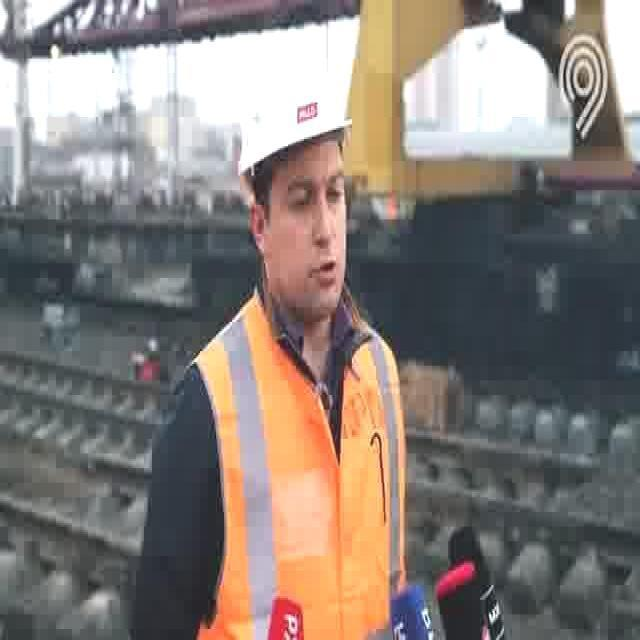vest: (181, 278, 411, 640)
